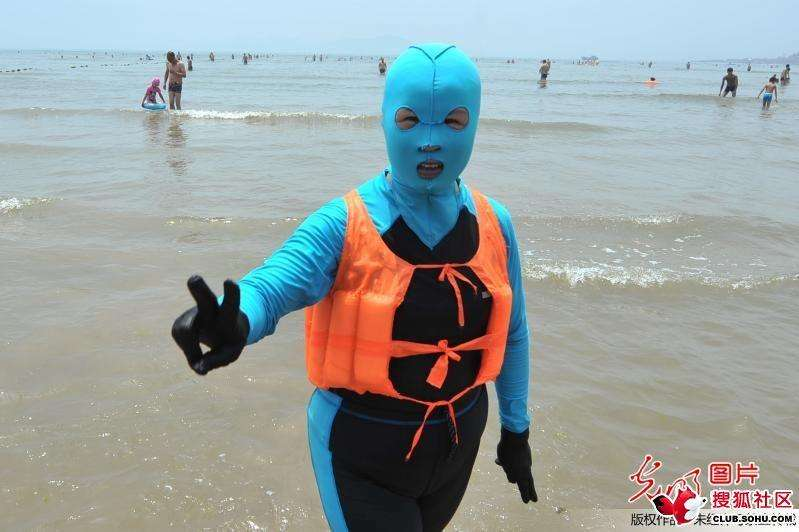reflective_clothes: (301, 158, 526, 419)
